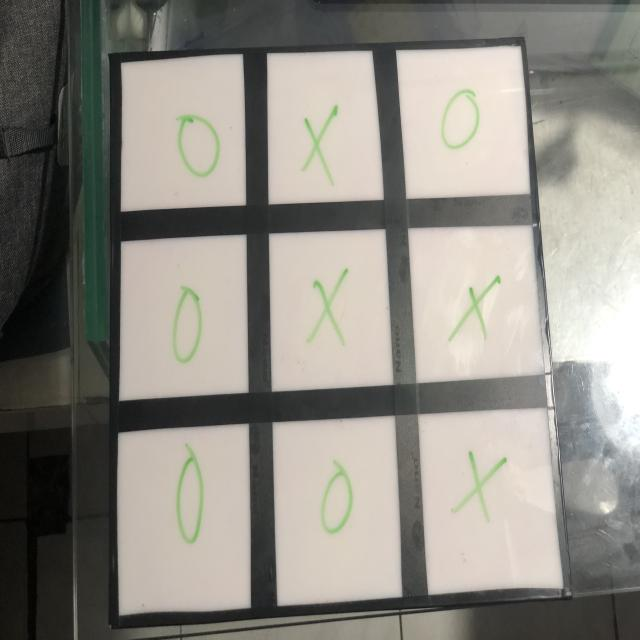o: (174, 441, 211, 557), (173, 108, 228, 181), (437, 82, 483, 158), (171, 277, 204, 368), (321, 461, 355, 539)
table: (70, 24, 572, 629)
x: (451, 447, 509, 527), (297, 104, 349, 185), (451, 276, 499, 350), (308, 261, 349, 347)
